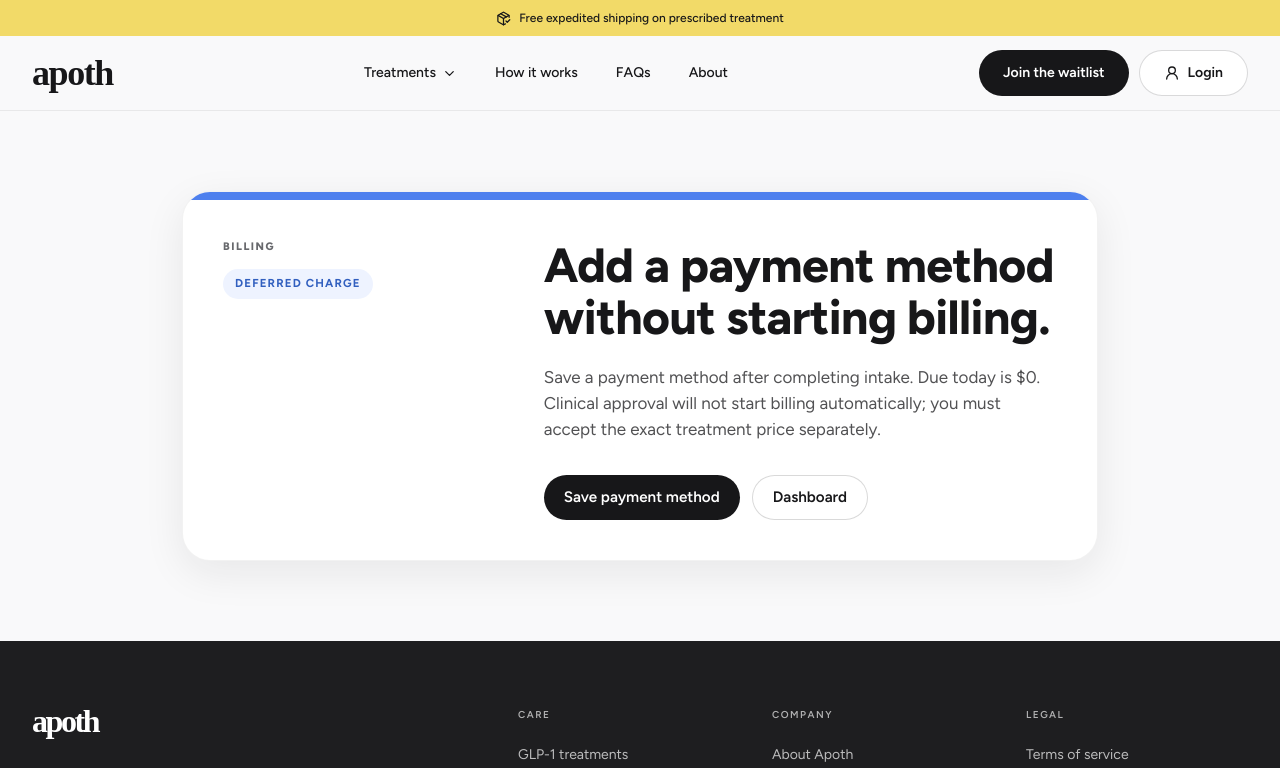
Test: BillingSetupClient › treats malformed successful responses as unavailable
The width and height of the screenshot is (1280, 768).
Click the button "Save payment method".
click(642, 498)  # box [544, 475, 740, 520]
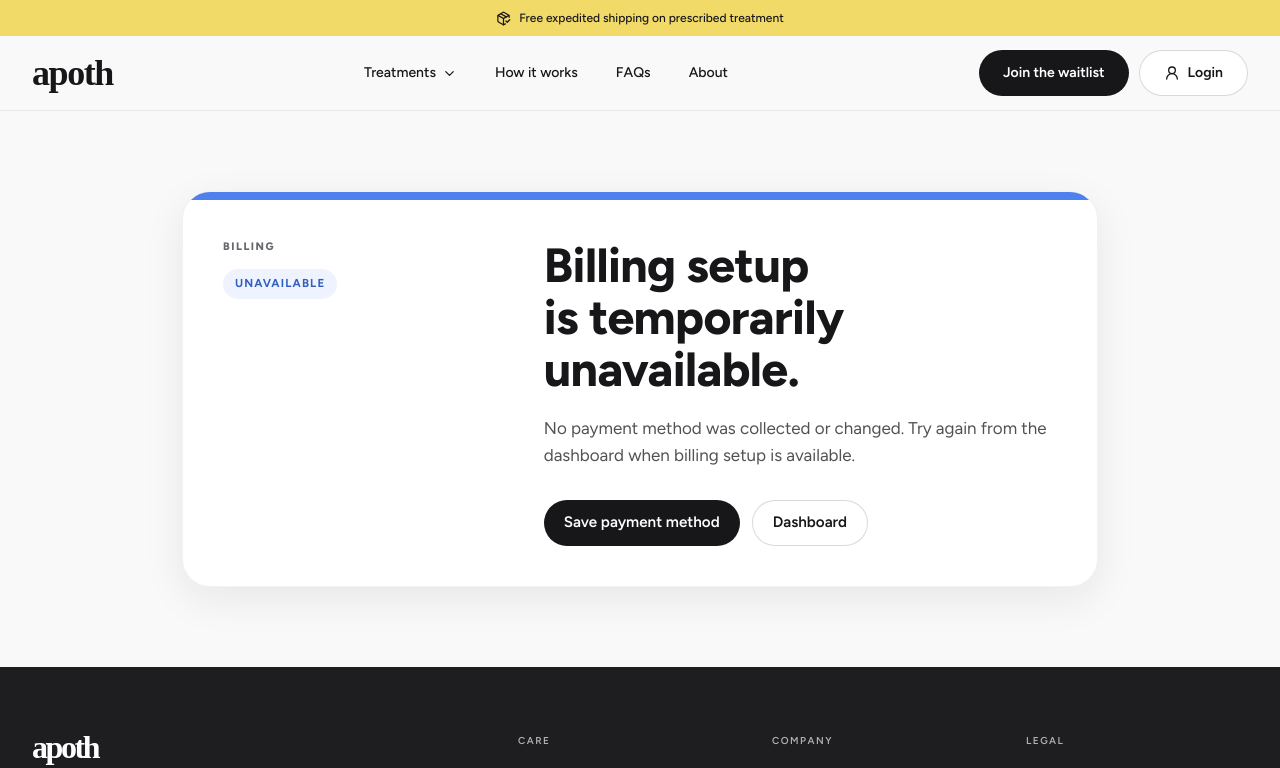
Expected: the heading "Billing setup is temporarily unavailable." is shown, [544, 236, 844, 398]
